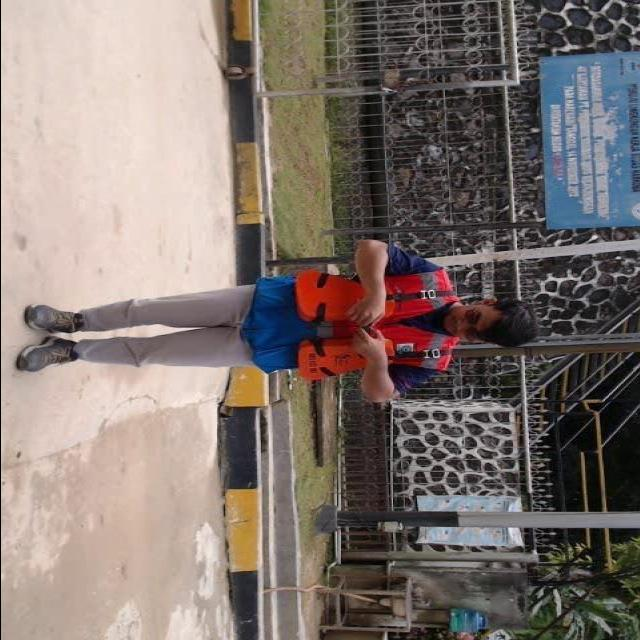jacket: (282, 259, 461, 393)
